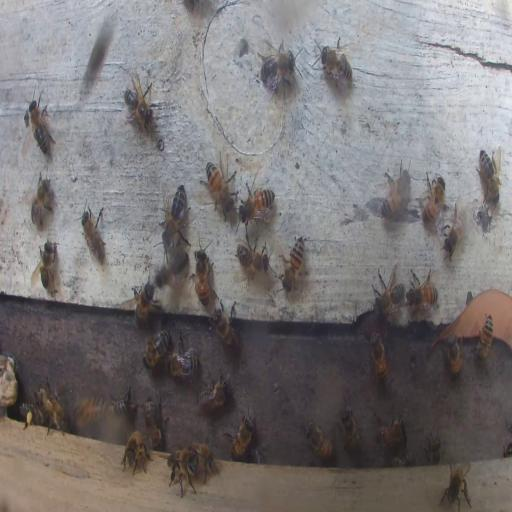bee: (257, 38, 297, 96), (316, 34, 352, 92), (204, 153, 236, 218), (371, 266, 406, 318), (440, 459, 474, 511), (163, 183, 189, 251), (124, 77, 154, 133), (380, 165, 411, 218), (26, 94, 52, 157), (415, 172, 446, 224), (168, 447, 198, 498), (239, 184, 277, 224), (32, 236, 58, 294), (81, 202, 105, 264), (406, 268, 438, 314), (281, 234, 306, 292), (477, 148, 502, 206), (121, 428, 152, 474), (212, 302, 239, 354), (236, 239, 270, 280), (154, 248, 188, 288), (225, 414, 254, 460), (441, 204, 465, 259), (374, 410, 407, 449), (197, 372, 229, 412), (31, 171, 54, 225), (38, 385, 66, 429), (142, 328, 171, 370), (305, 421, 334, 463), (194, 244, 212, 308), (338, 408, 362, 454), (134, 282, 159, 324), (145, 394, 164, 448), (187, 443, 218, 475), (74, 396, 105, 428), (369, 330, 387, 385), (168, 348, 200, 378), (476, 315, 493, 361), (446, 336, 462, 378), (108, 393, 133, 419), (426, 428, 441, 463), (390, 448, 416, 466), (20, 404, 38, 424), (249, 446, 265, 464)
